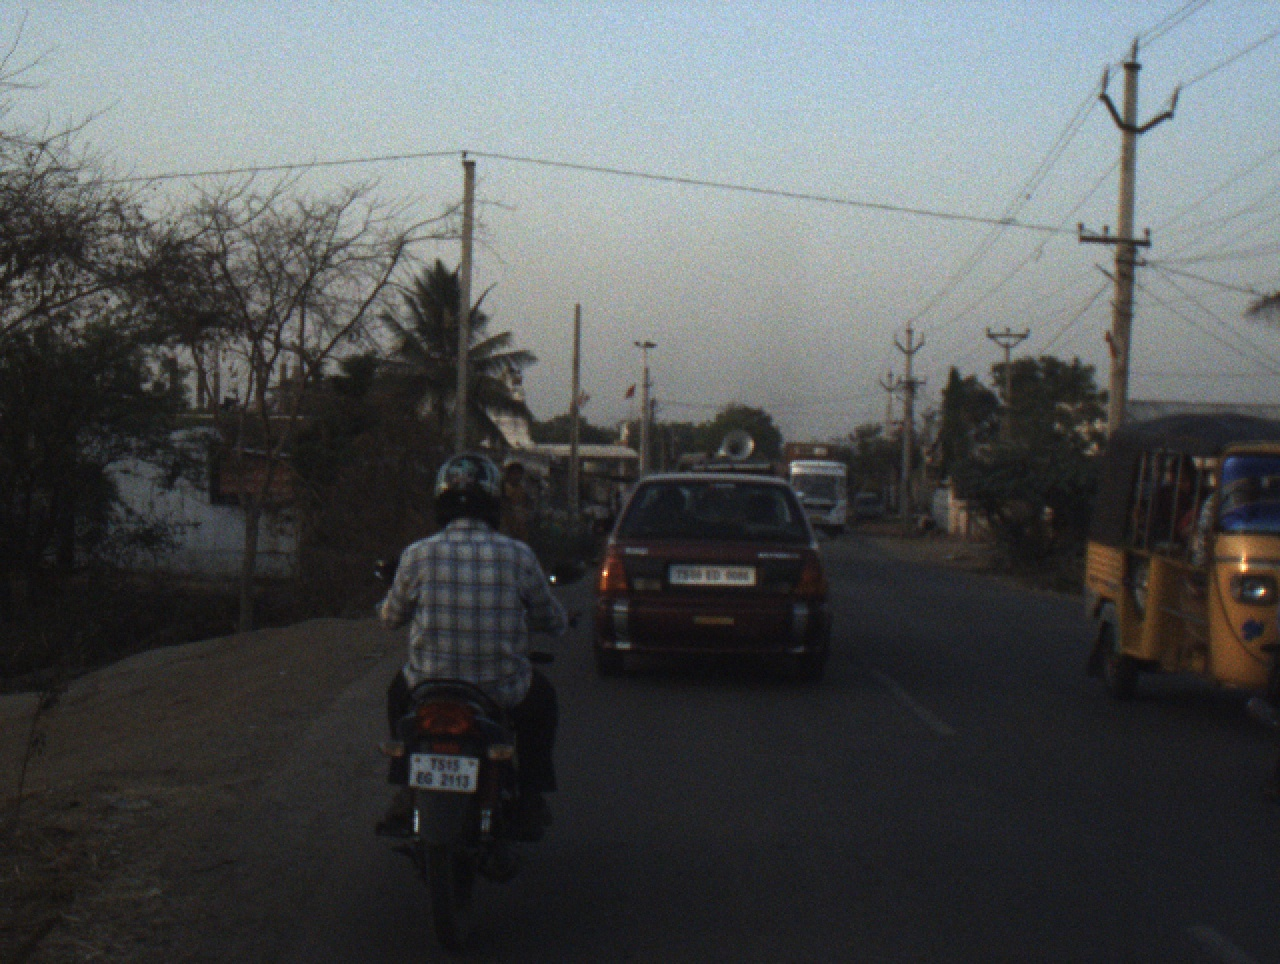autorickshaw: (1065, 420, 1277, 719), (672, 427, 776, 481)
bus: (778, 459, 850, 541)
car: (583, 457, 839, 693), (855, 489, 883, 523)
motorcycle: (362, 556, 574, 944)
person: (495, 462, 533, 549)
rider: (358, 449, 569, 863)
vehicle fallback: (785, 438, 836, 462)
